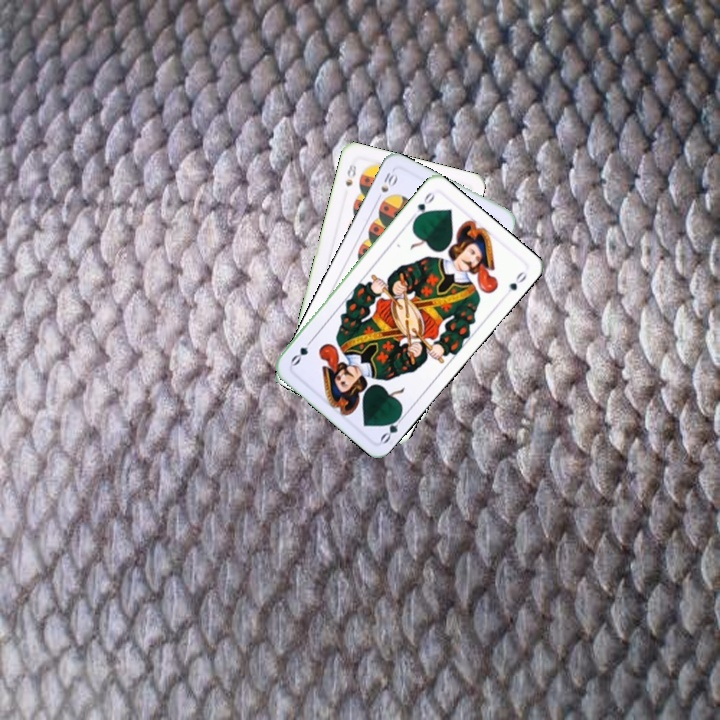GO: (376, 409, 408, 446), (407, 188, 438, 224)
S10: (372, 168, 400, 204)
S8: (341, 159, 359, 189)
